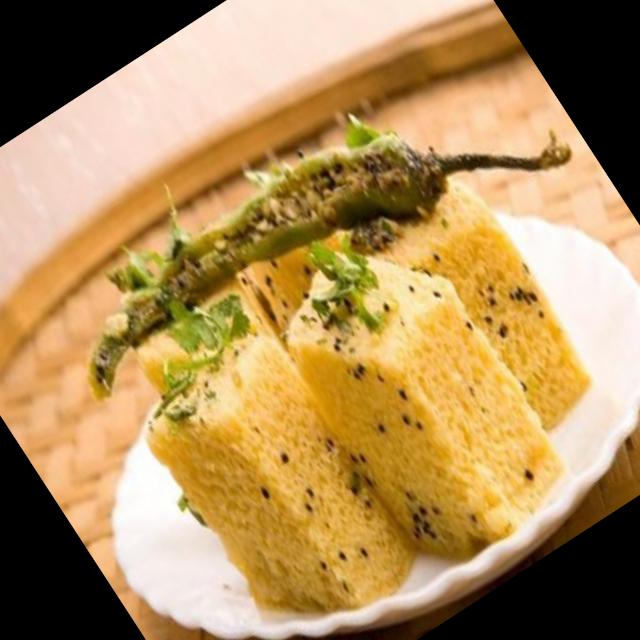dhokla: (63, 100, 637, 640)
